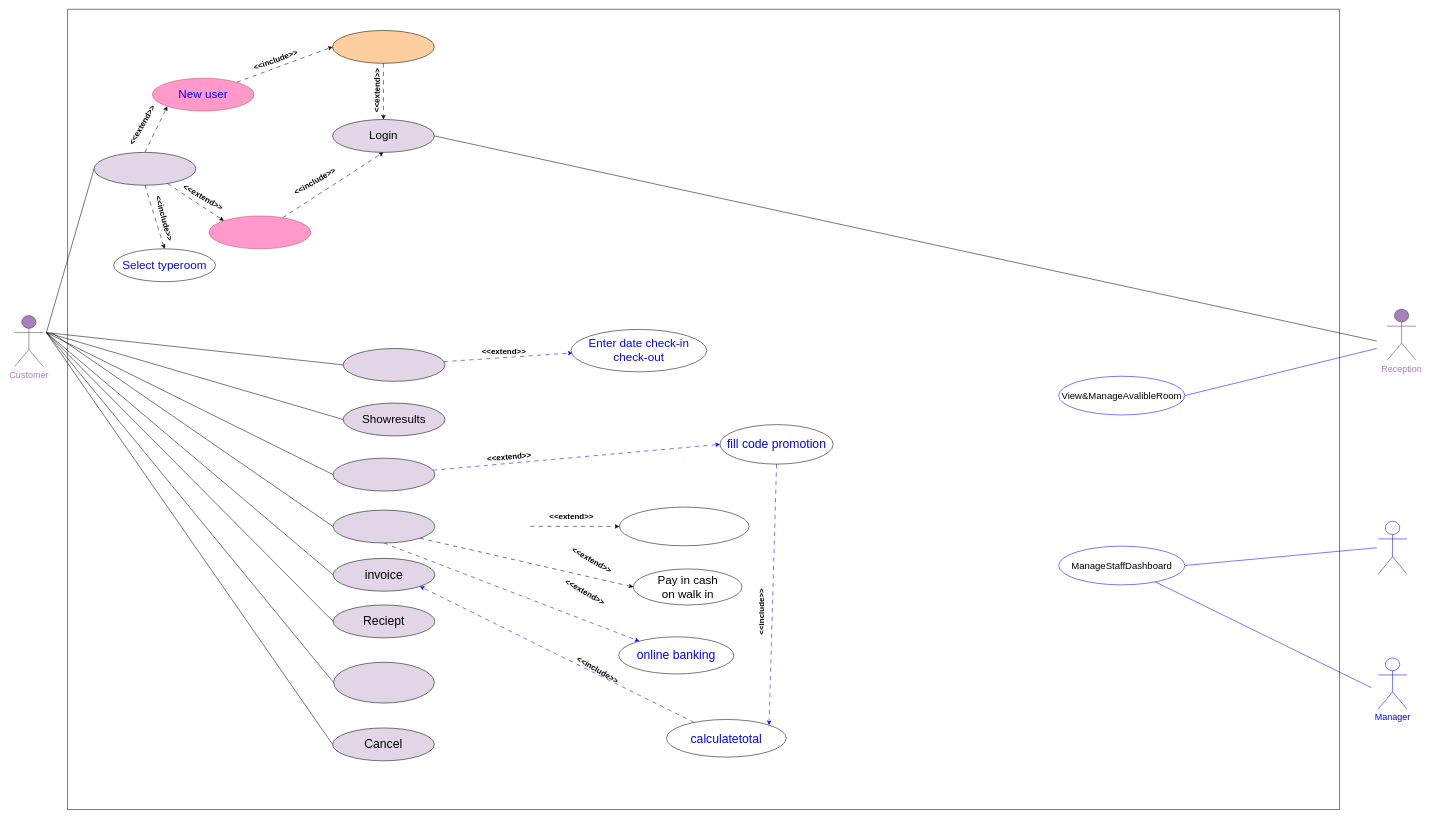
The diagram is 1431 pixels wide and 819 high, and some of its shapes have lost their labels. The centre of each missing label's shape, as x and y in pixels:
"Create account" goes at [383,46].
"FindforRoom" goes at [394,364].
"Make a payment" goes at [384,526].
"Make Hotel Reservation" goes at [145,168].
"Pay by credit card or debit card" goes at [684,526].
"register user" goes at [260,232].
"Select promotion" goes at [384,474].
"Staff" goes at [1392,547].
"View order your book" goes at [383,682].
